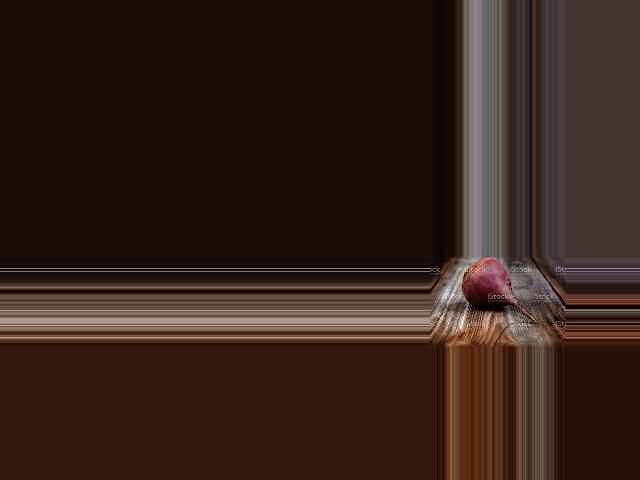beet: (462, 258, 537, 323)
